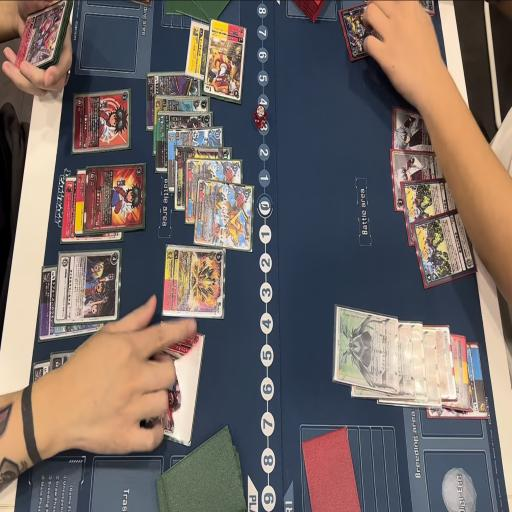card: (140, 327, 214, 454), (331, 302, 397, 396), (53, 245, 123, 328), (413, 202, 482, 286), (83, 159, 147, 239), (160, 248, 228, 320), (426, 339, 484, 421), (68, 88, 135, 158), (12, 0, 69, 81), (195, 180, 253, 253), (165, 129, 224, 197), (203, 21, 250, 106), (401, 178, 465, 239), (183, 158, 242, 224), (174, 146, 232, 212), (155, 109, 213, 173), (387, 149, 445, 213), (145, 71, 201, 132), (152, 98, 210, 156), (33, 260, 65, 347), (342, 0, 386, 61), (390, 104, 442, 154), (432, 317, 456, 405), (445, 331, 469, 410), (59, 174, 82, 250), (423, 322, 442, 410), (396, 320, 416, 402), (407, 311, 424, 407), (184, 23, 212, 80), (52, 352, 88, 390), (73, 164, 89, 239), (32, 359, 57, 391), (418, 0, 437, 17)
